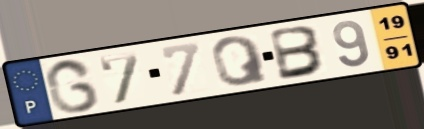7: (158, 39, 205, 97), (97, 50, 142, 106)
9: (330, 18, 372, 69)
B: (268, 24, 328, 82)
G: (42, 57, 103, 115)
Q: (208, 34, 271, 88)
